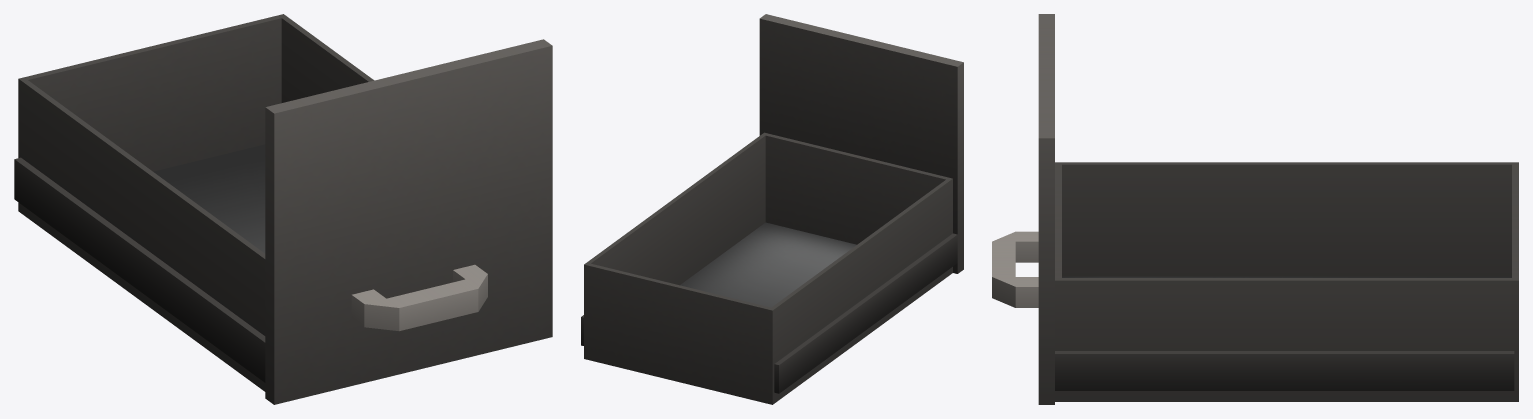
Rendered from FilingCabinet_Drawer.fbx.
3 renders of one model, left to right at view 1: azimuth 30°, elevation 25°; view 2: azimuth 150°, elevation 25°; view 3: azimuth 270°, elevation 25°, orthographic. The views are drawn at different scales.
Visible parts, largest first — view 1: FilingCabinet_Drawer; view 2: FilingCabinet_Drawer; view 3: FilingCabinet_Drawer.
Part boxes in pixels (left/top/right/bottom): FilingCabinet_Drawer: left=14, top=14, right=552, bottom=404; FilingCabinet_Drawer: left=581, top=14, right=963, bottom=404; FilingCabinet_Drawer: left=992, top=14, right=1518, bottom=404.
Size of the model in its own units: 33.38 by 33.38 by 59.78.
